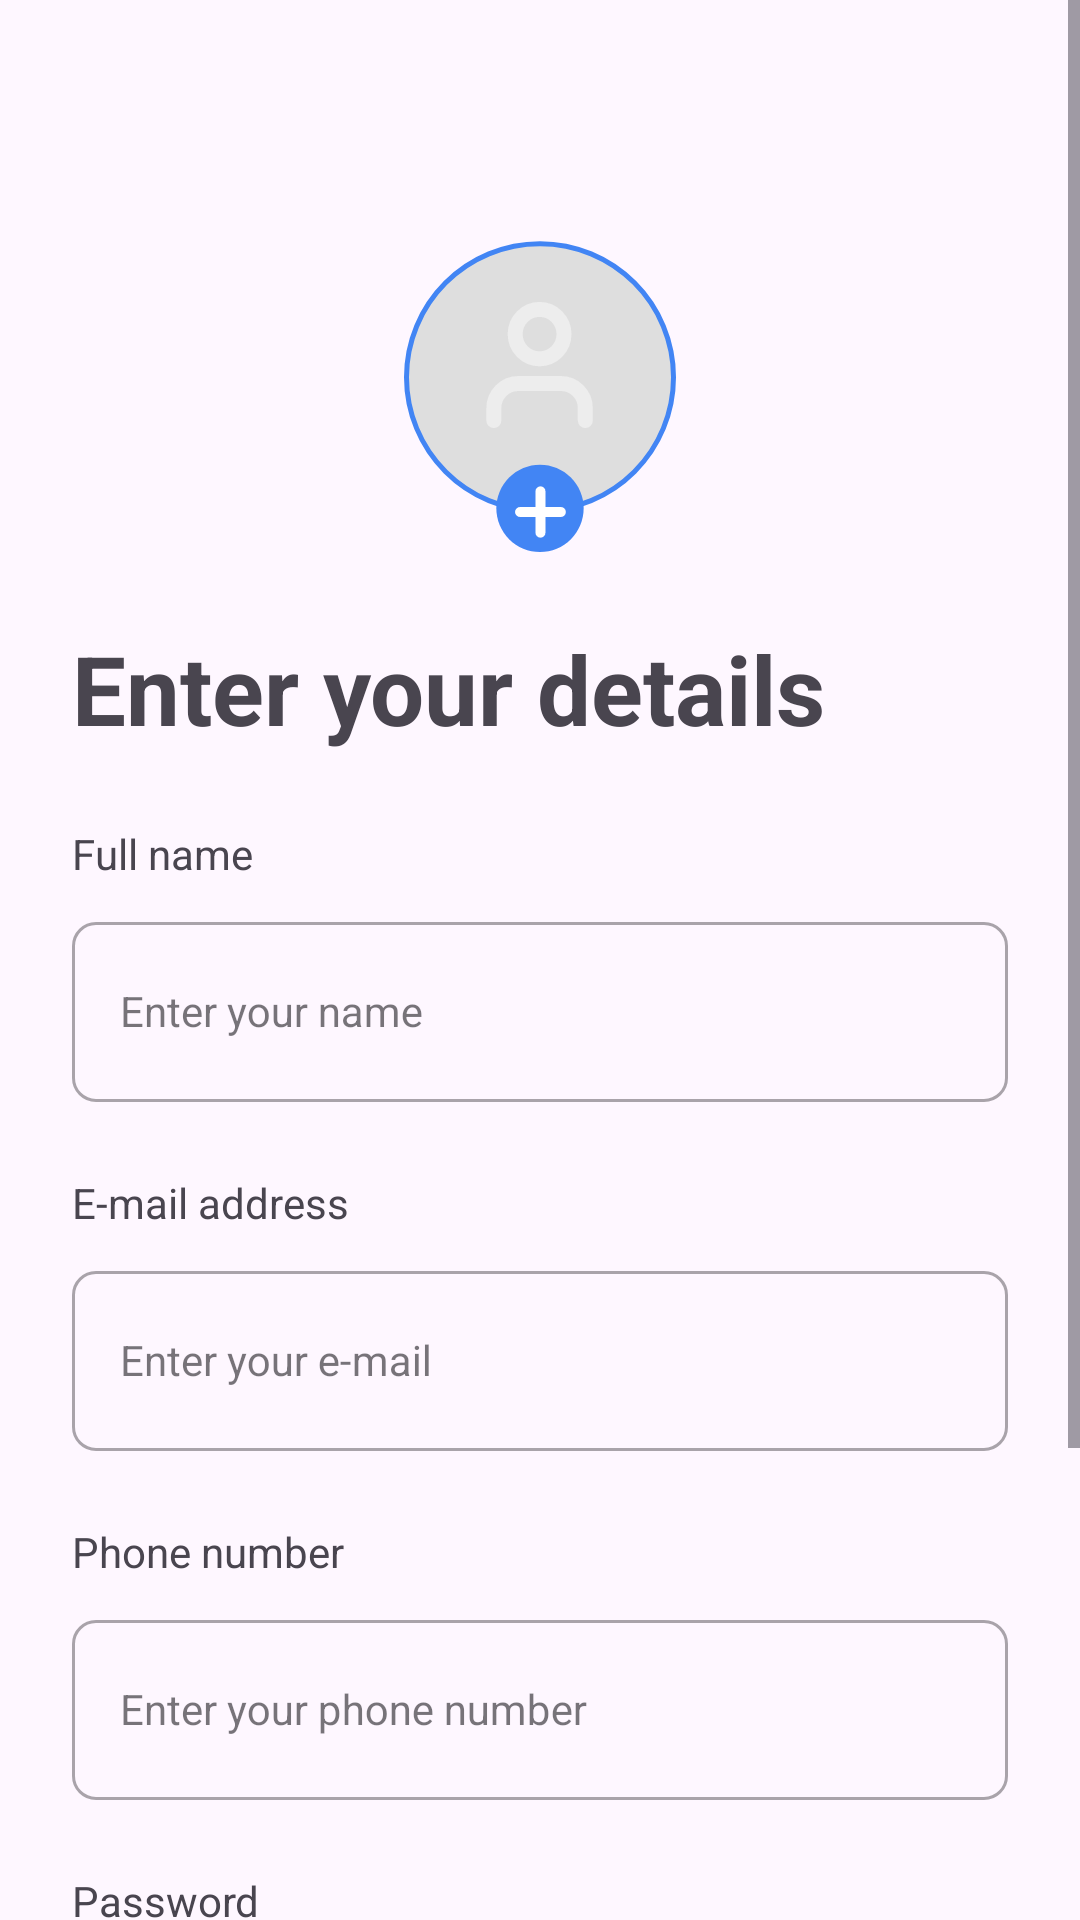

Locate icon controls on the screen. Image size 1080x1920, boxes as [x1, y1, x2, y2].
profilevector: [404, 241, 676, 552]
